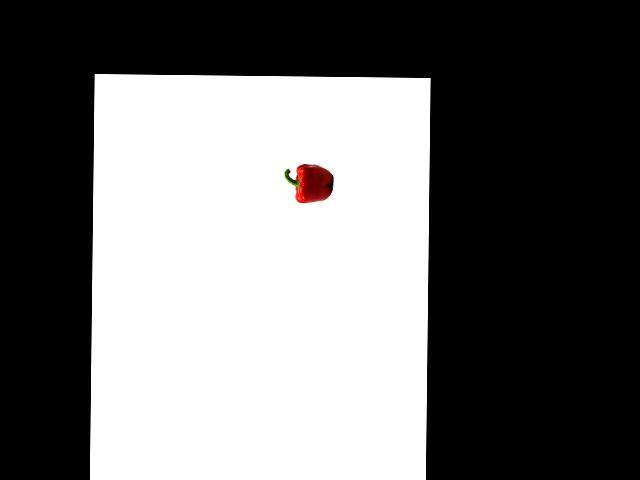bell_pepper: (282, 161, 335, 206)
